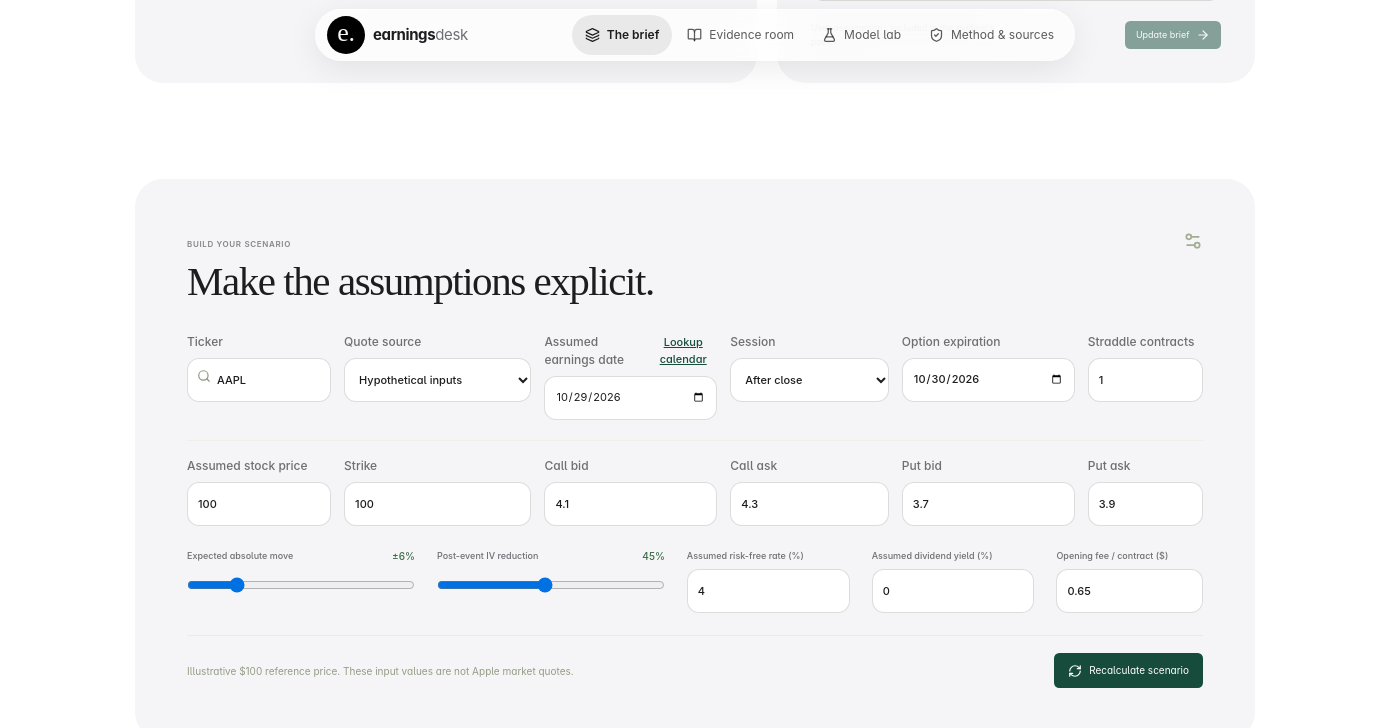
Test: research desk interactions › preserves the previous brief when provider fetching fails
(page scrolled)
Select "MarketData.app · delayed" in the dropdown labelled "Quote source" at [438, 380], box [344, 358, 531, 402]
(page scrolled)
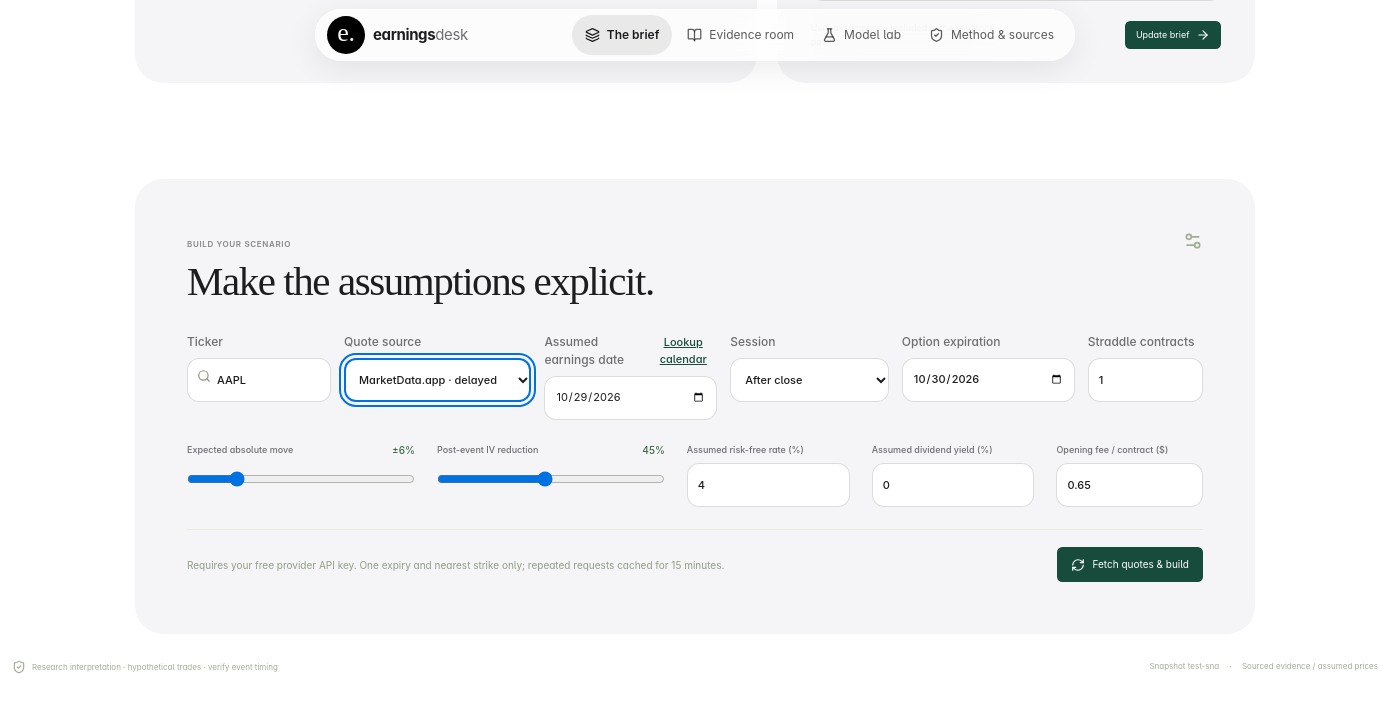
Click the button "Fetch quotes & build" at [1130, 565], box [1058, 547, 1203, 582]
(page scrolled)
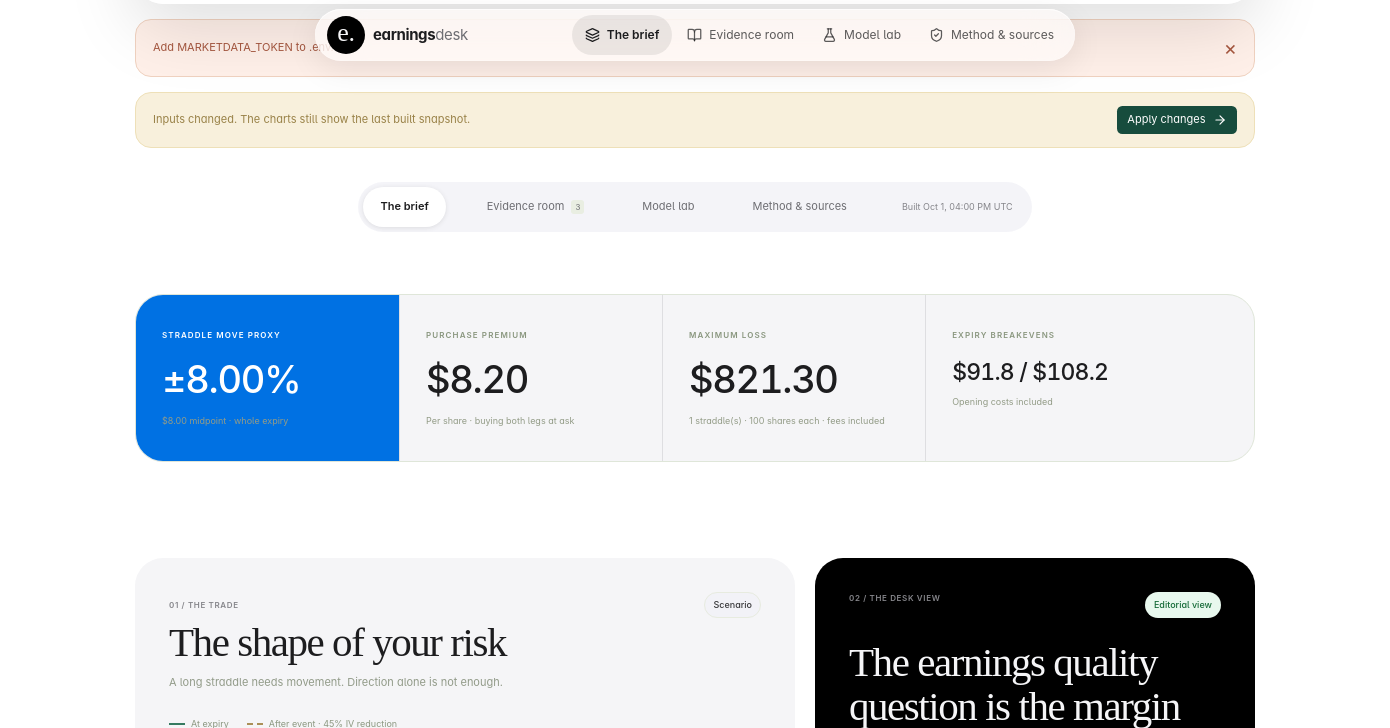
Expected: the text "±8.00%" is shown, [162, 356, 300, 402]
Expected: the message "Add MARKETDATA_TOKEN to .env. ×" is shown, [135, 18, 1255, 76]
